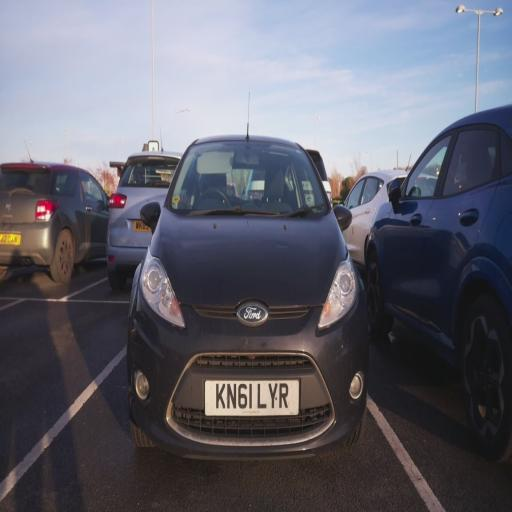numberplates: (205, 380, 299, 416), (0, 233, 21, 245), (134, 221, 150, 232)
